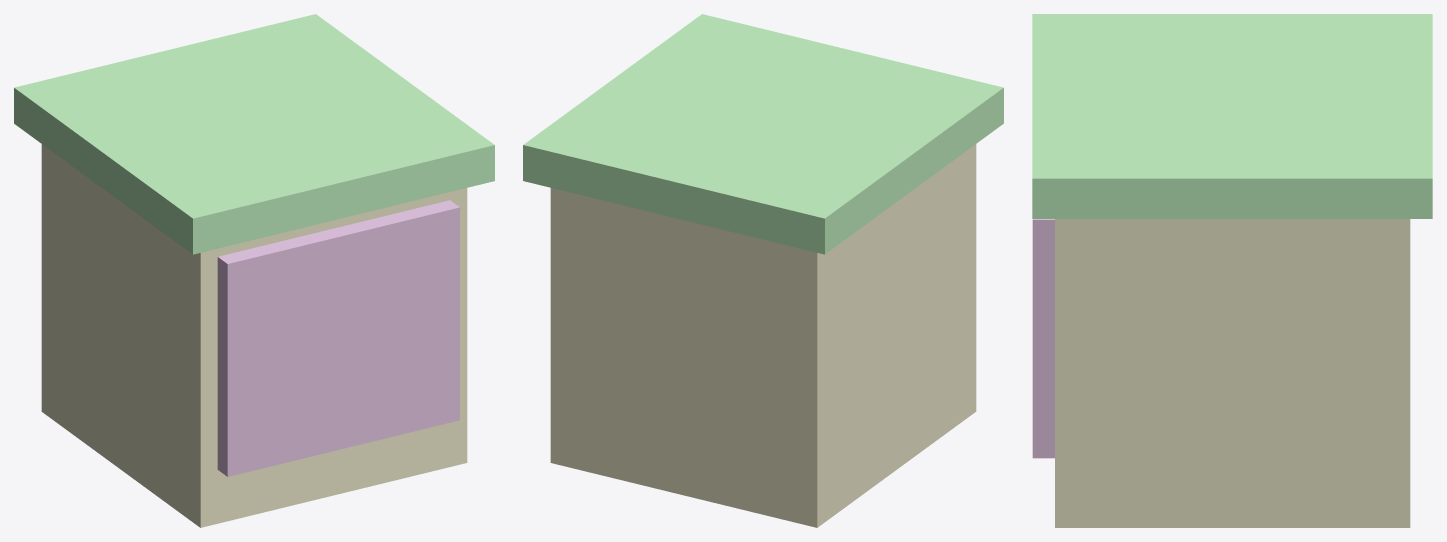
Rendered from Side_Table.glb.
3 renders of one model, left to right at view 1: azimuth 30°, elevation 25°; view 2: azimuth 150°, elevation 25°; view 3: azimuth 270°, elevation 25°, orthographic. The views are drawn at different scales.
Parts seen in each view (by area): view 1: Side Table; view 2: Side Table; view 3: Side Table.
Boxes of the visible parts, left/top/right/bottom form: Side Table: left=14, top=14, right=494, bottom=527; Side Table: left=523, top=14, right=1003, bottom=527; Side Table: left=1032, top=14, right=1432, bottom=527.
Size of the model in its own units: 0.4384 by 0.4455 by 0.4504.
